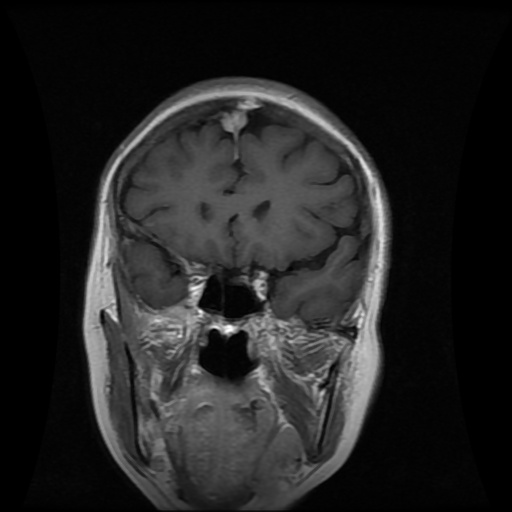meningioma: (221, 111, 249, 131)
